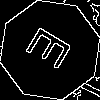E: (25, 25, 81, 77)
